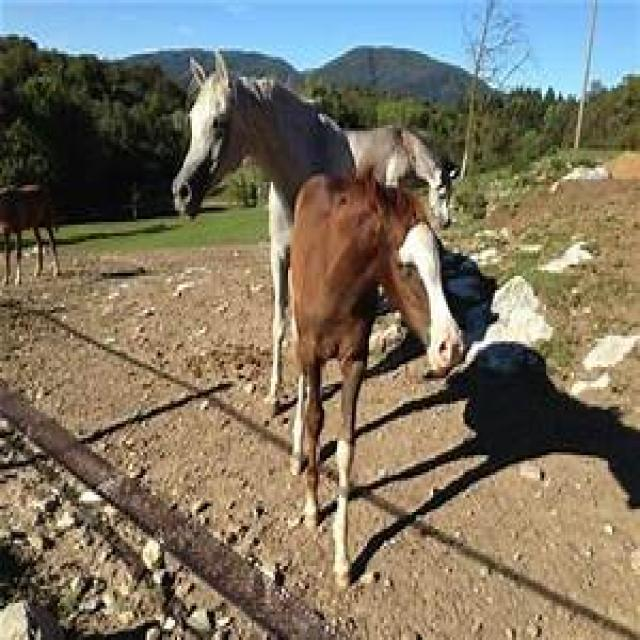horse: (169, 71, 454, 358), (288, 139, 469, 503)
